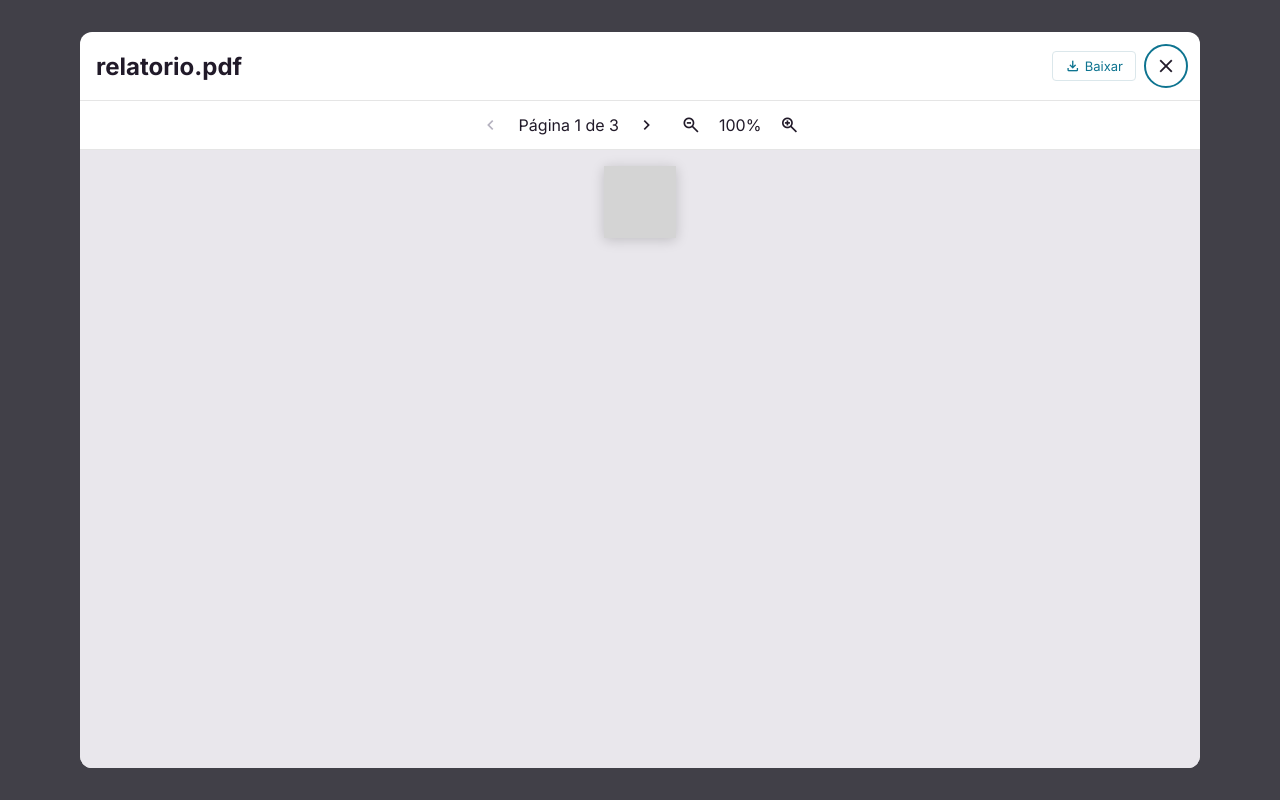
Scenario: pages › zooms in and out within bounds
Check: the text "100%" is shown, box left=719, top=115, right=761, bottom=135
Click the button named "Aumentar zoom" at (789, 125), box left=773, top=109, right=805, bottom=141
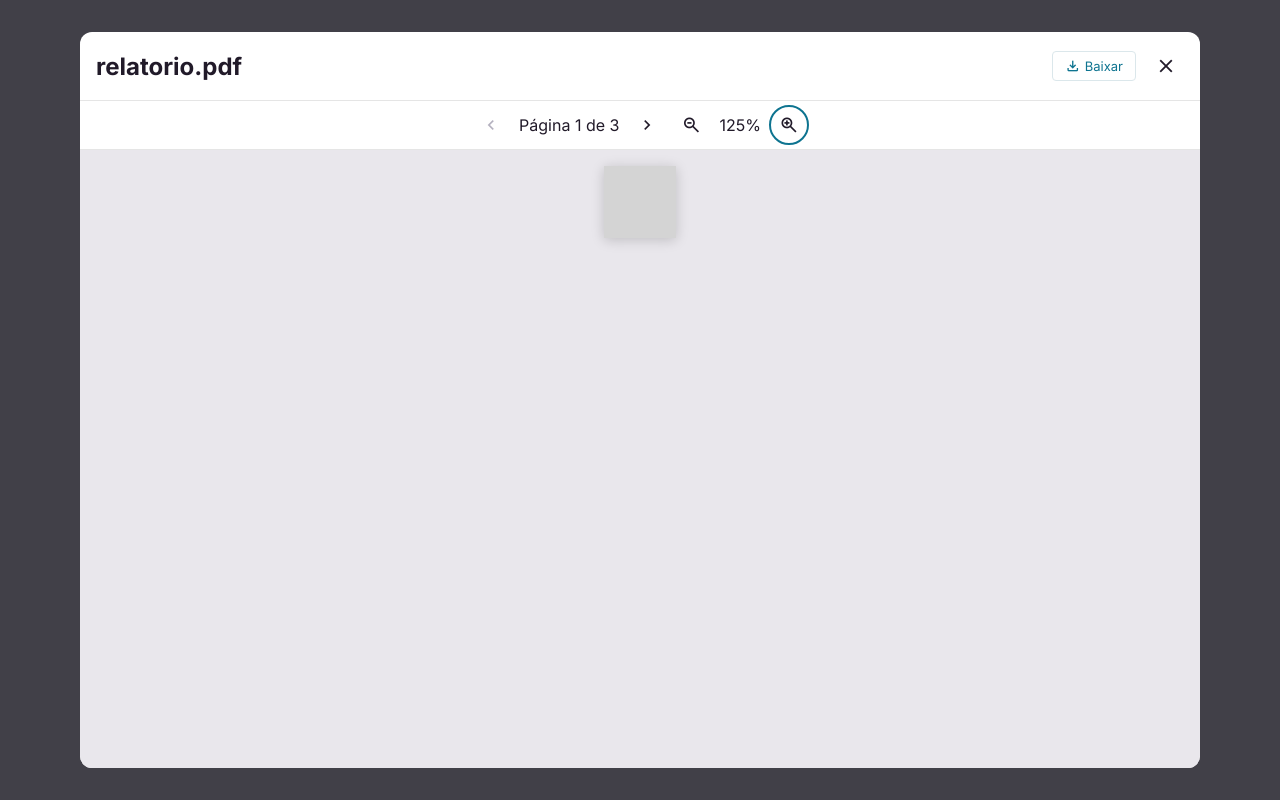
Check: the text "125%" is shown, box left=719, top=115, right=761, bottom=135
Click the button named "Reduzir zoom" at (691, 125), box left=675, top=109, right=707, bottom=141
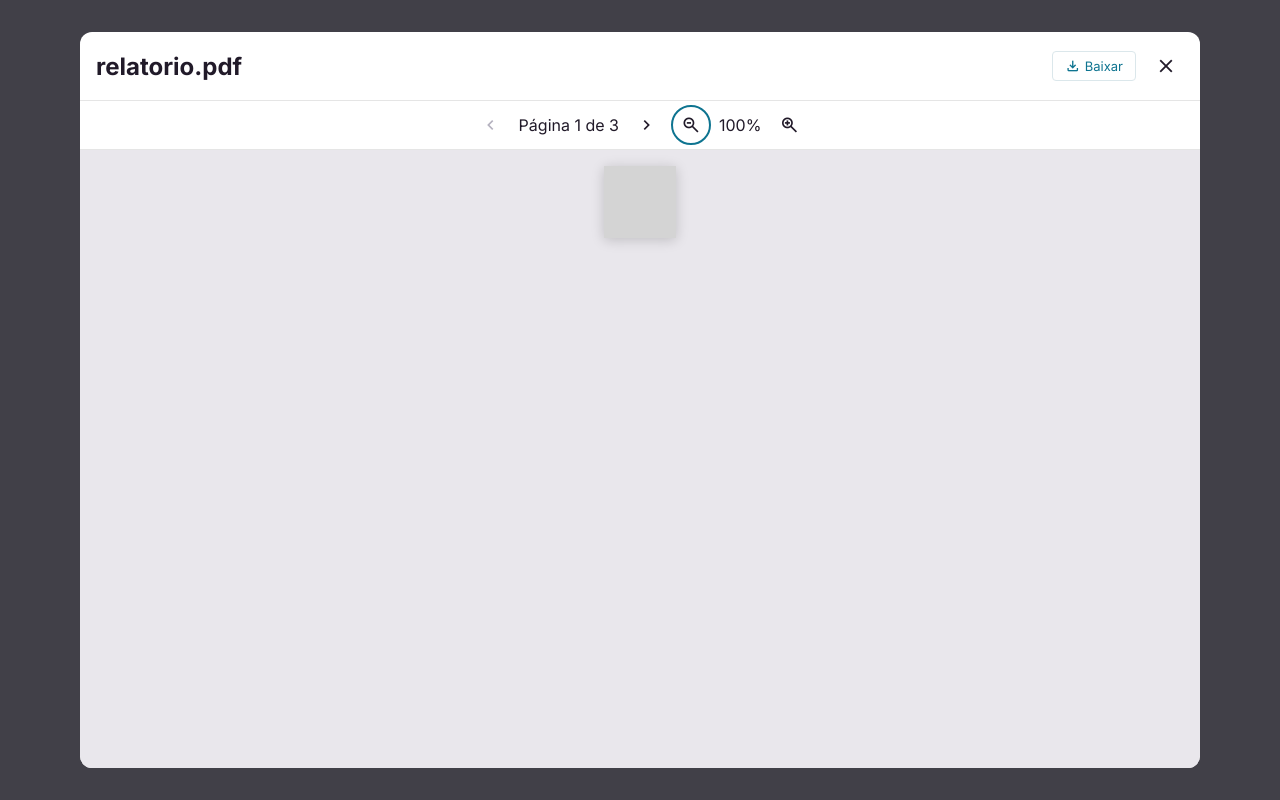
Check: the text "100%" is shown, box left=719, top=115, right=761, bottom=135
